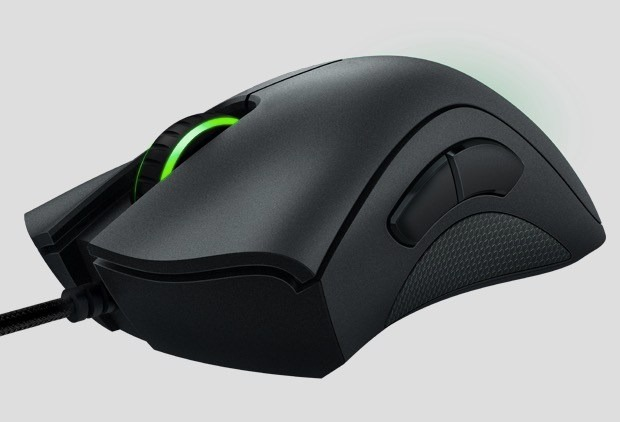mouse: (14, 58, 607, 383)
